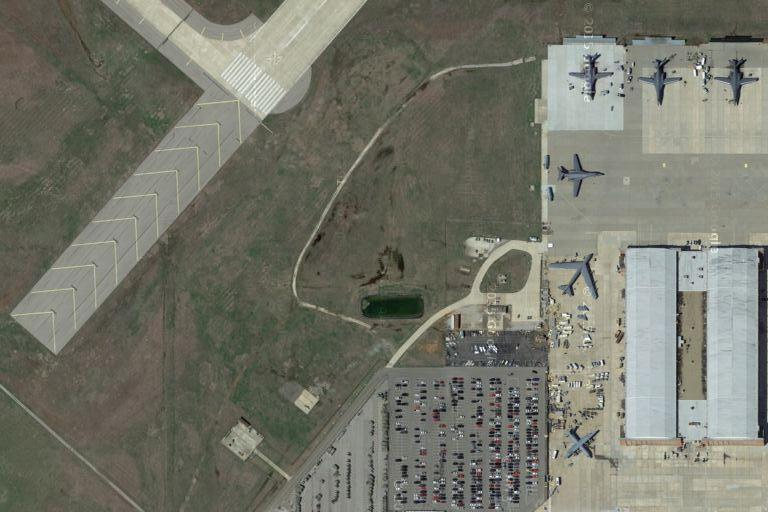B-1B: (635, 49, 685, 110), (714, 53, 759, 111), (554, 150, 606, 197), (570, 51, 613, 102)
B-52: (550, 247, 601, 303)
KC-135: (561, 418, 602, 462)
